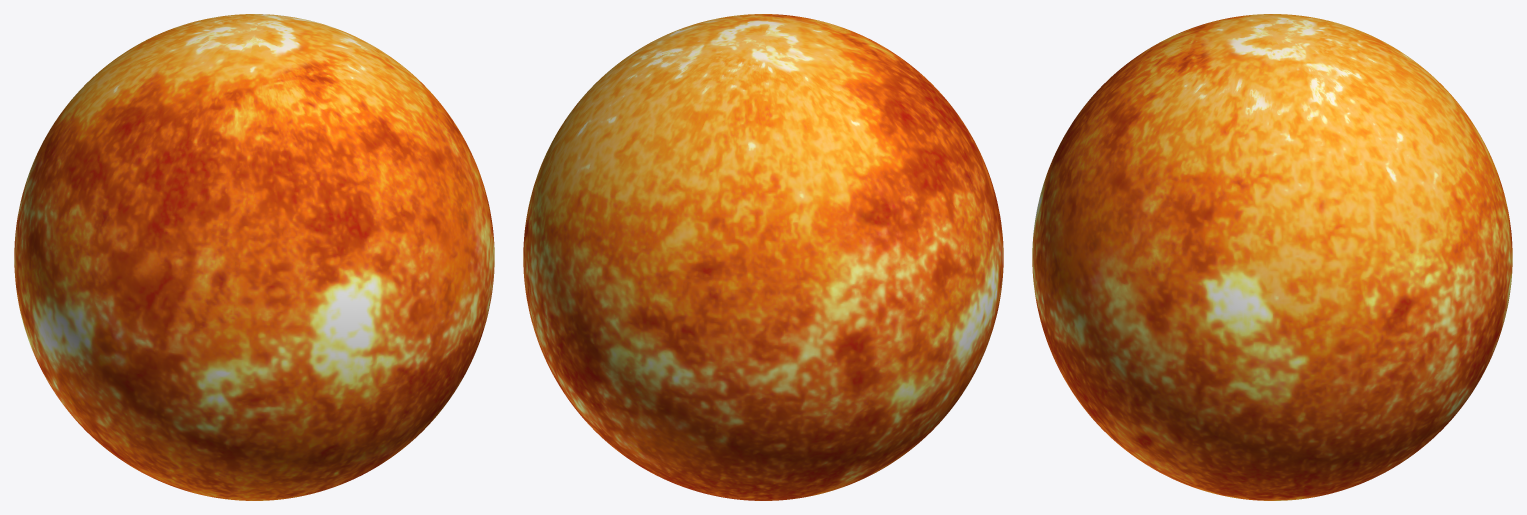
File: Sun.fbx
The picture shows the model from 3 angles, left to right: view 1: azimuth 30°, elevation 25°; view 2: azimuth 150°, elevation 25°; view 3: azimuth 270°, elevation 25°; orthographic projection.
Visible parts, largest first — view 1: sun; view 2: sun; view 3: sun.
Part boxes in pixels (x1,y1,x2,y2): sun: (14, 14, 494, 500); sun: (523, 14, 1003, 500); sun: (1032, 14, 1512, 500).
Bounding box in the file's own units: 185 × 189 × 185.
